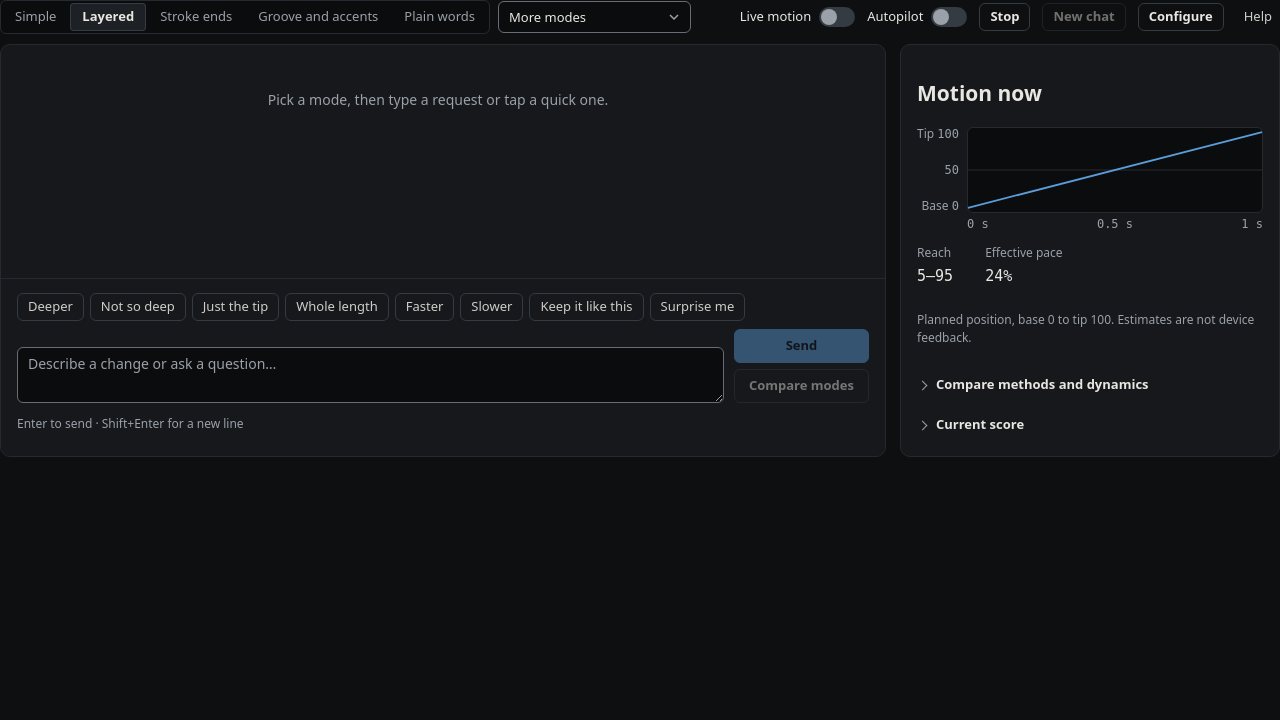
it: streamlined LLM Lab › compares one request across the main modes without changing the chat or motion
The image size is (1280, 720).
Expected: the text "Pick a mode, then type a request or tap a quick one." is shown, [268,90,608,109]
Type "Go deeper" into the text box named "Message". click: (370, 375)
box: [17,347,724,403]
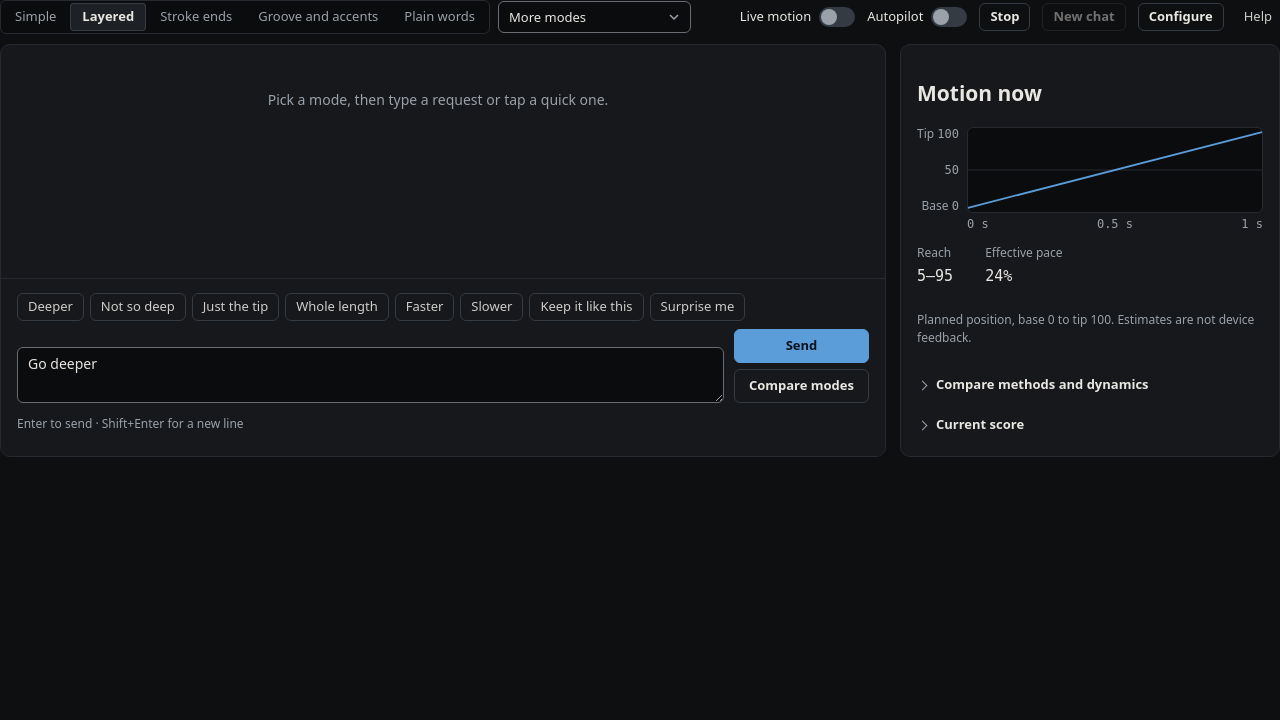
Click the button "Compare modes". click: (801, 386)
box: [734,369,869,403]
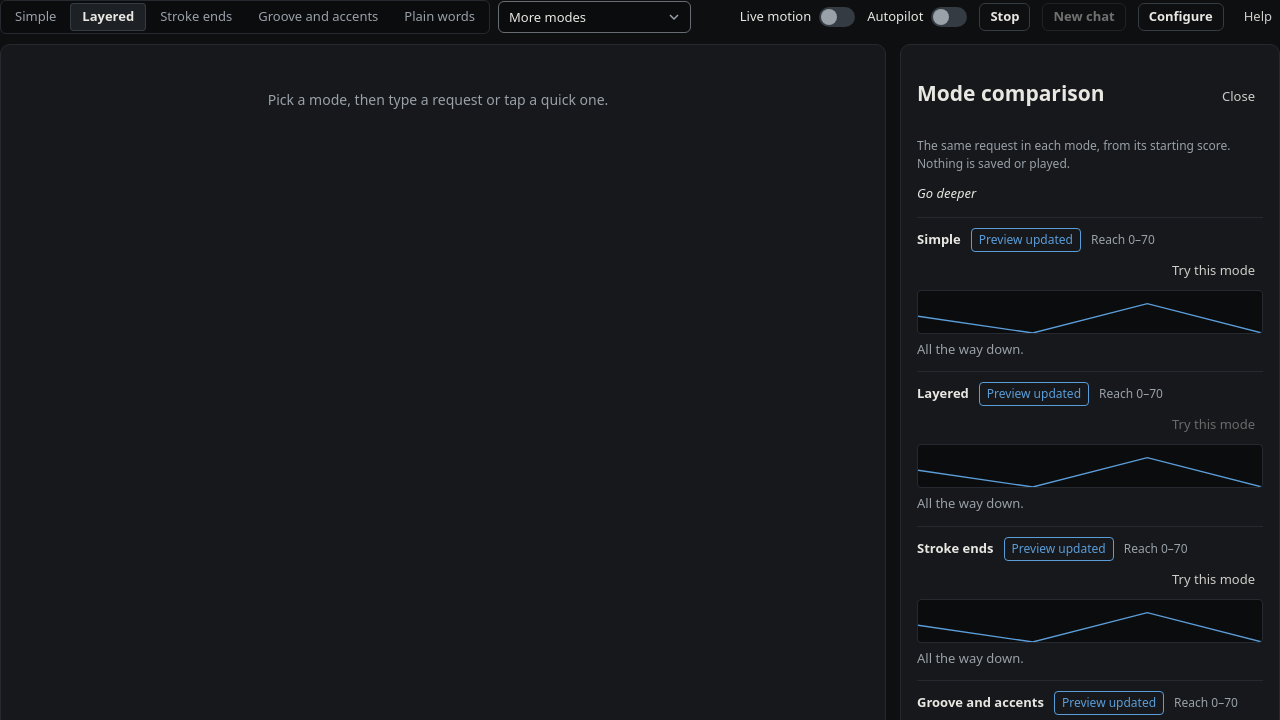
Expected: the text "Reach 0–70" is shown 5 times
